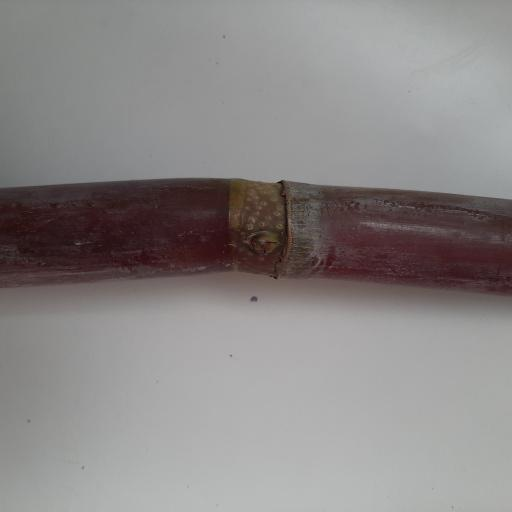Bud: (244, 231, 281, 256)
